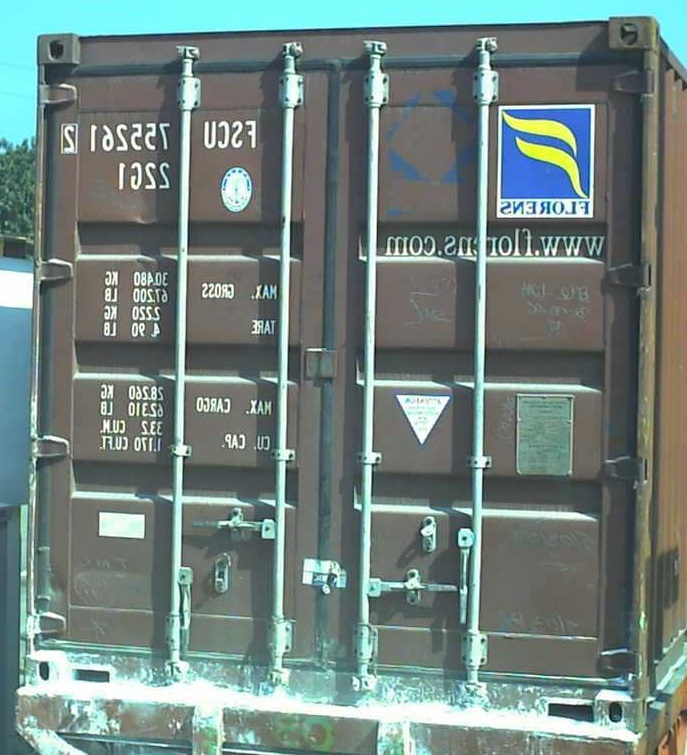container_door: (21, 17, 659, 703)
